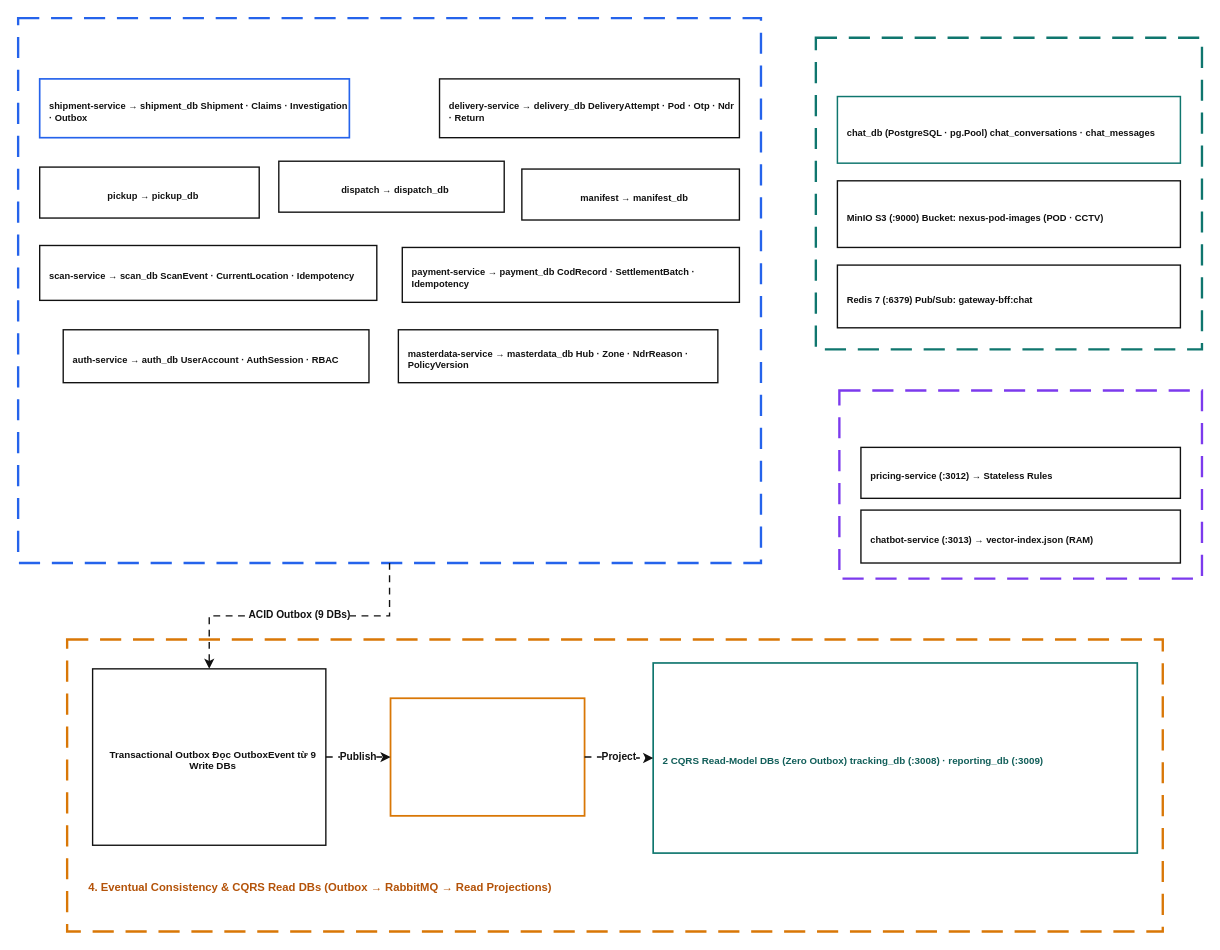
The diagram is 1220 pixels wide and 950 high, and some of its shapes have lost their labels. The shapes that lost their labels are listed below. From the top down, each one's box as (x1, y1, x2, y2) in pixels, then its label:
(814, 36, 1203, 350): 2. Edge BFF Stores — gateway-bff (:3000)
(16, 16, 762, 564): 1. Transactional Write DBs (9 Isolated PostgreSQL DBs · Prisma + Outbox)
(838, 389, 1203, 579): 3. Non-RDBMS & Stateless Services (2 Services)
(389, 697, 585, 816): RabbitMQ domain.events AMQP :5672 · DLX/TTL Retry
